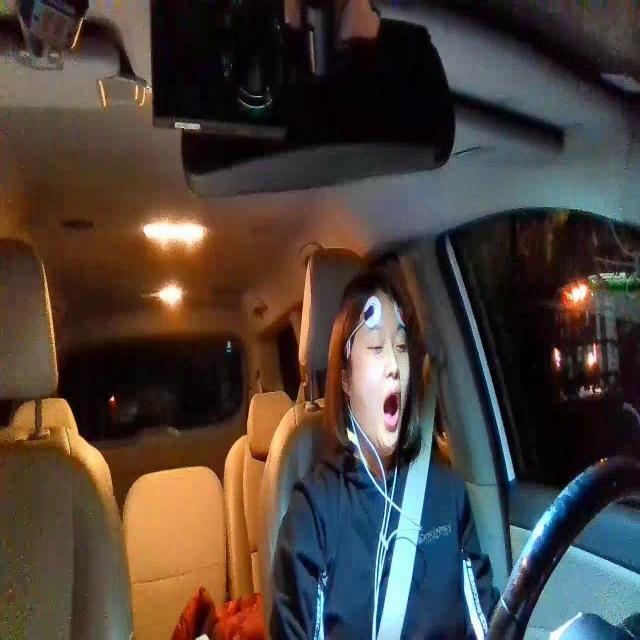Attentive: (337, 270, 413, 456)
Eye-Close: (364, 340, 382, 353), (390, 340, 408, 353)
Yawning: (381, 389, 403, 430)
